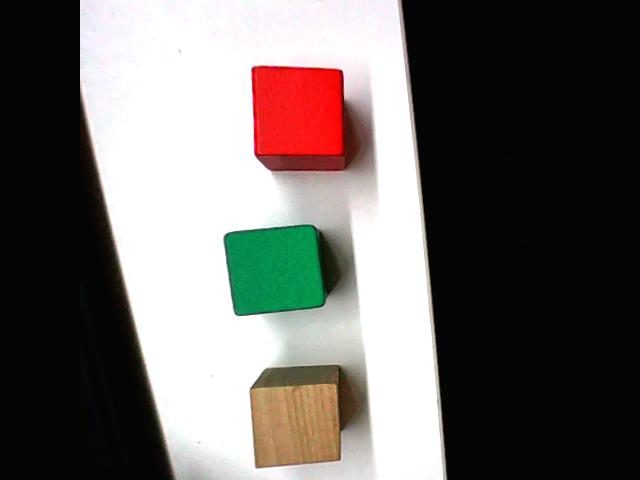green_box: (219, 221, 330, 319)
raw_box: (243, 361, 349, 474)
red_box: (246, 61, 350, 174)
